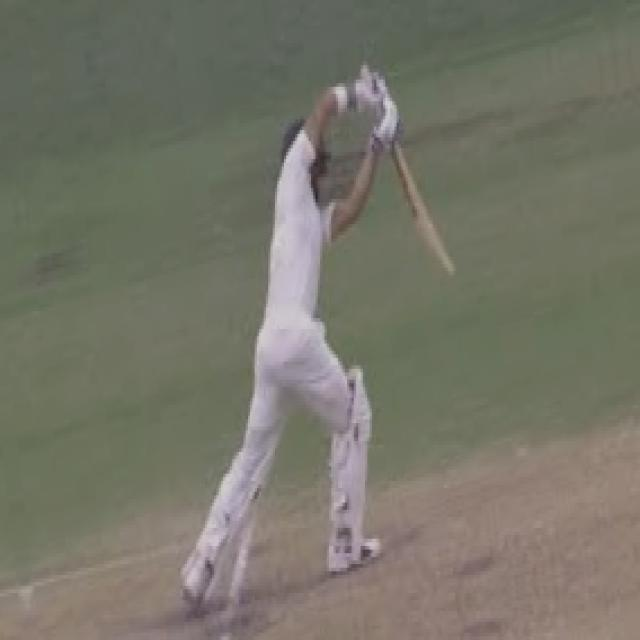bat: (388, 136, 470, 279)
